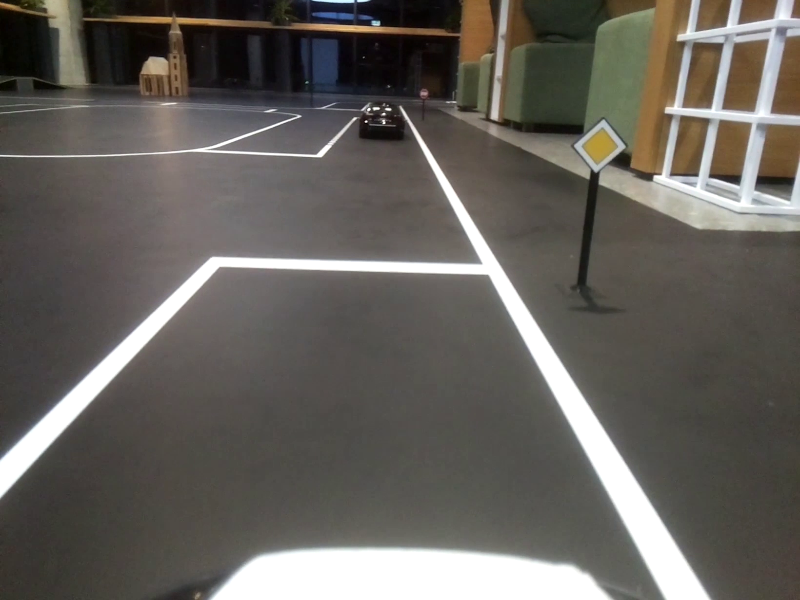priority: (573, 127, 626, 170)
